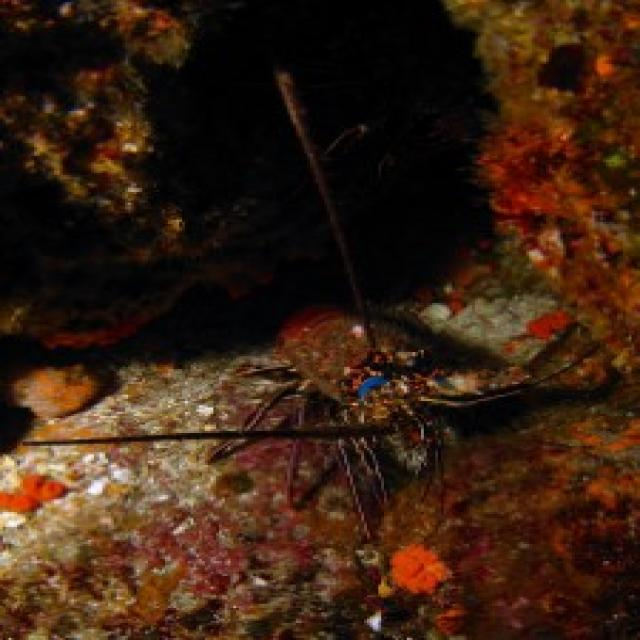lobsters: (40, 198, 640, 504)
